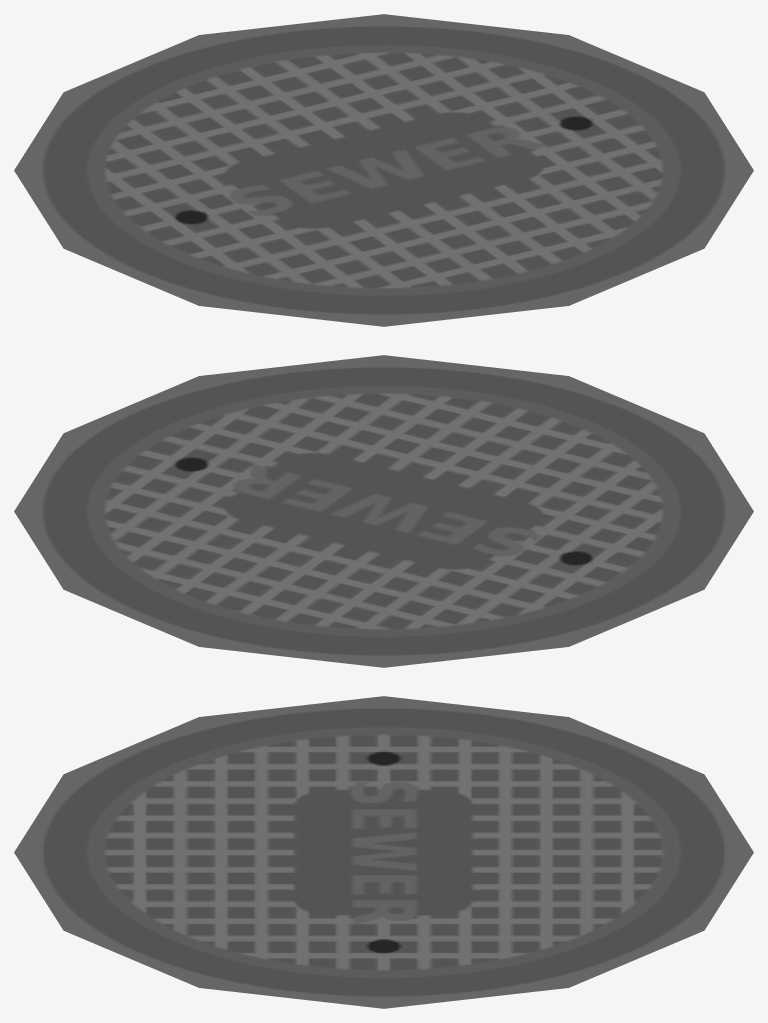
File: manhole_cover.gltf
3 renders of one model, top to bottom at view 1: azimuth 30°, elevation 25°; view 2: azimuth 150°, elevation 25°; view 3: azimuth 270°, elevation 25°, orthographic.
Parts seen in each view (by area): view 1: manhole_cover; view 2: manhole_cover; view 3: manhole_cover.
Part boxes in pixels (box(x1,y1,x2,y2)): manhole_cover: box(14, 14, 753, 326); manhole_cover: box(14, 355, 753, 667); manhole_cover: box(14, 696, 753, 1008).
Bounding box in the file's own units: 0.759 × 0 × 0.759.
Materials: 1 (1 with a texture image).
